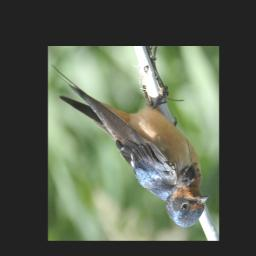Swallow: (50, 62, 210, 228)
